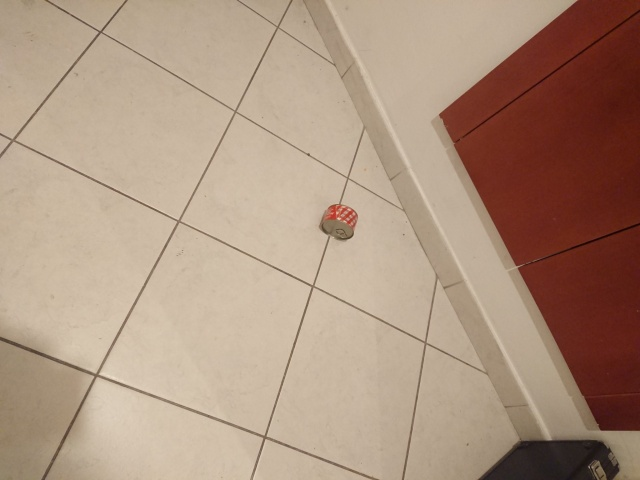Podravka Luncheon Meat 150g: (320, 203, 360, 242)
